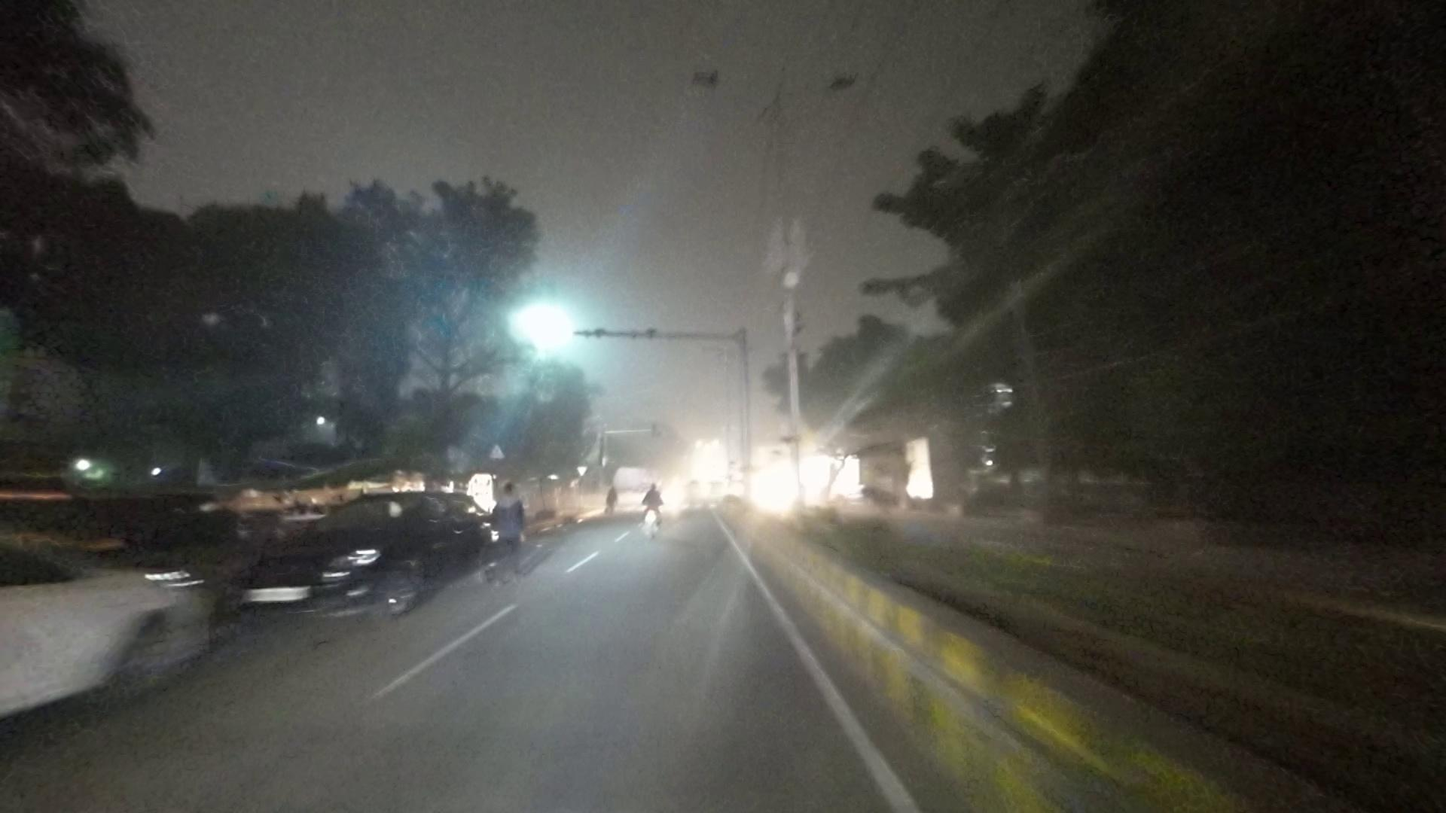streetlight: (690, 67, 770, 99), (785, 70, 867, 98)
